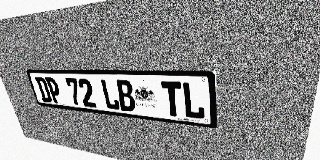2: (77, 78, 97, 108)
7: (64, 78, 84, 106)
B: (115, 80, 136, 112)
D: (34, 77, 53, 103)
L: (182, 82, 205, 120), (100, 79, 120, 110)
P: (45, 77, 63, 104)
T: (161, 81, 183, 117)
